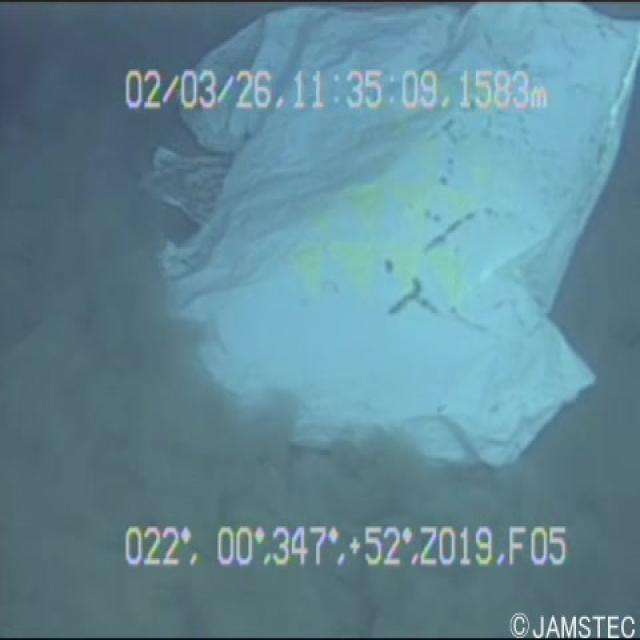plastic: (141, 2, 639, 490)
